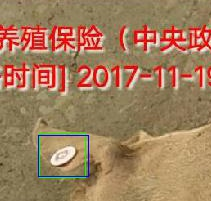text: (39, 133, 85, 177)
